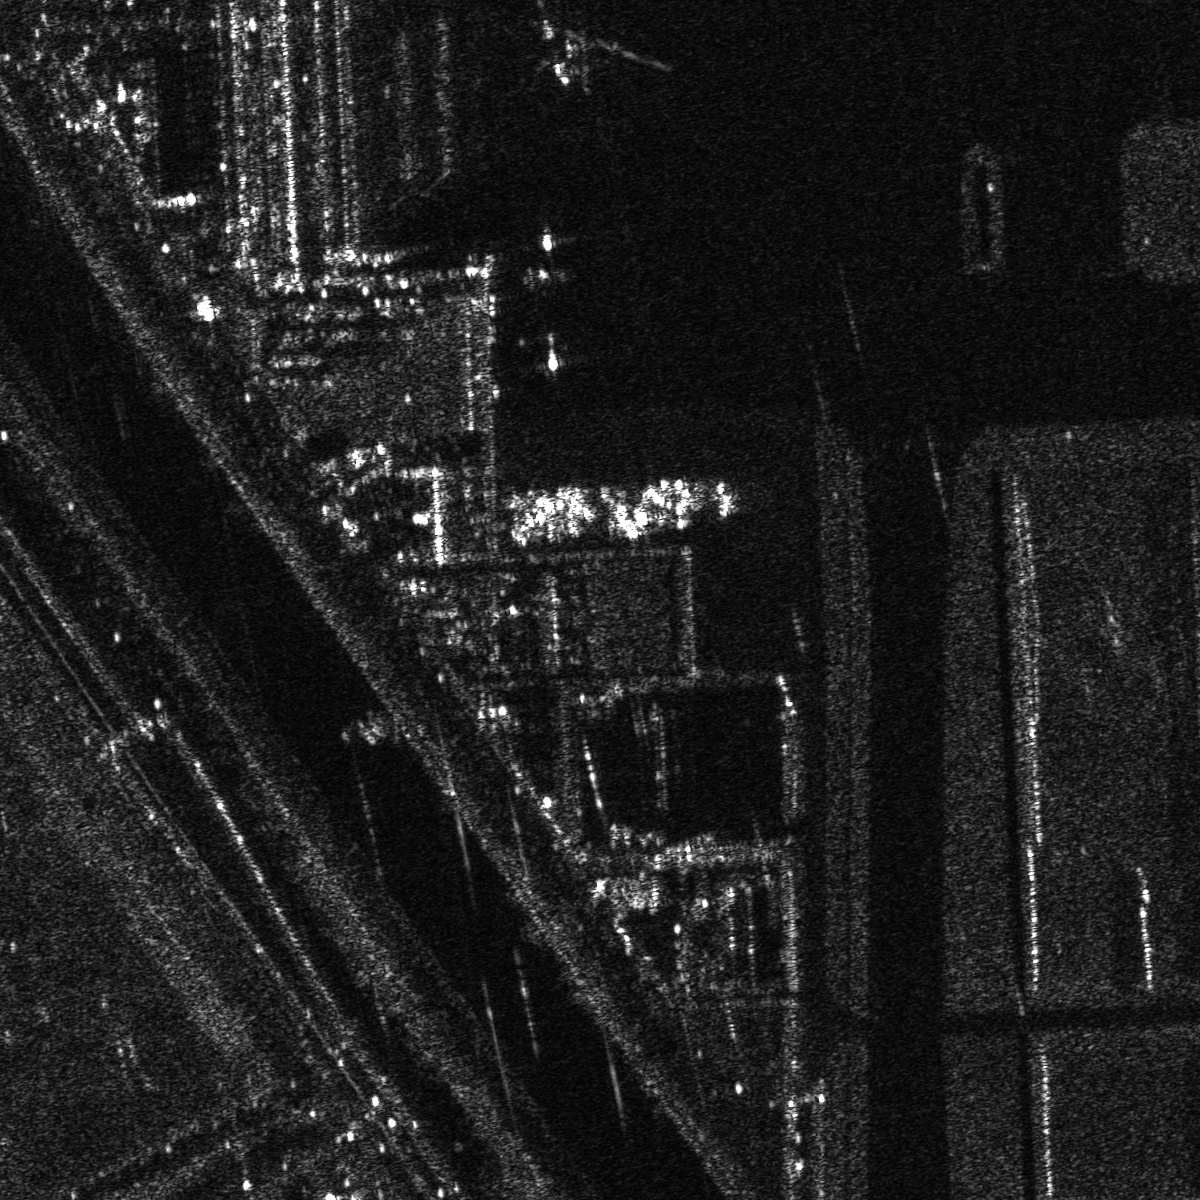A220: (546, 21, 641, 95)
